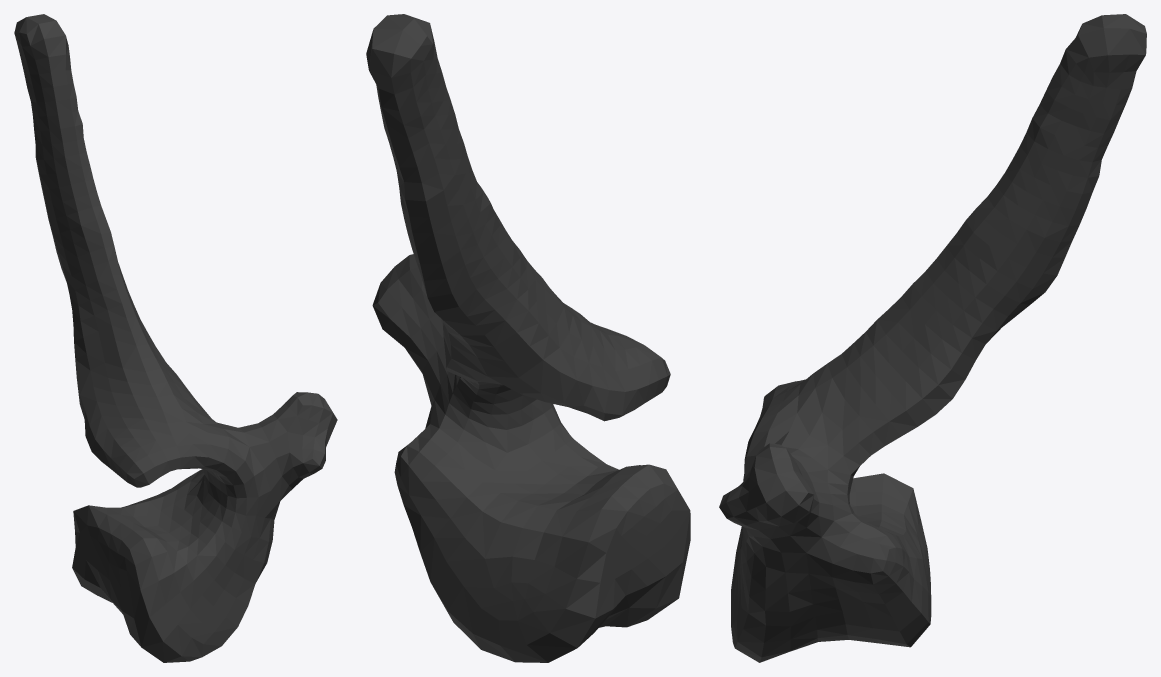
The picture shows the model from 3 angles, left to right: view 1: azimuth 30°, elevation 25°; view 2: azimuth 150°, elevation 25°; view 3: azimuth 270°, elevation 25°; orthographic projection. The views are drawn at different scales.
Parts seen in each view (by area): view 1: T7; view 2: T7; view 3: T7.
Part boxes in pixels (bbox=[...]): T7: bbox=[14, 14, 337, 662]; T7: bbox=[366, 14, 690, 662]; T7: bbox=[719, 14, 1146, 662].
Size of the model in its own units: 0.00712 by 0.0176 by 0.0107.
Materials: 1 (1 with a texture image).
